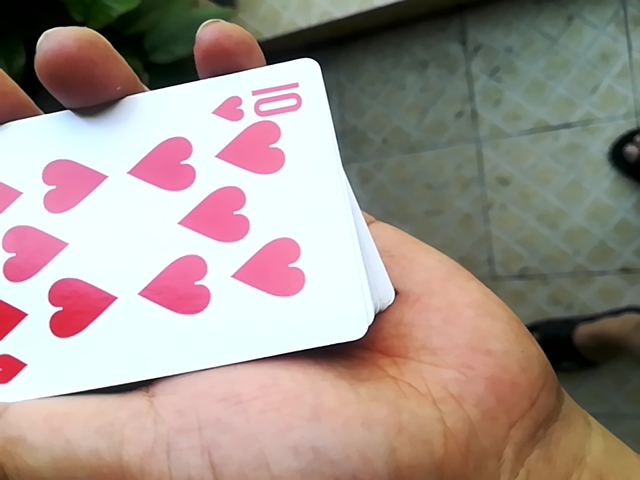hx 10: (11, 61, 393, 403)
